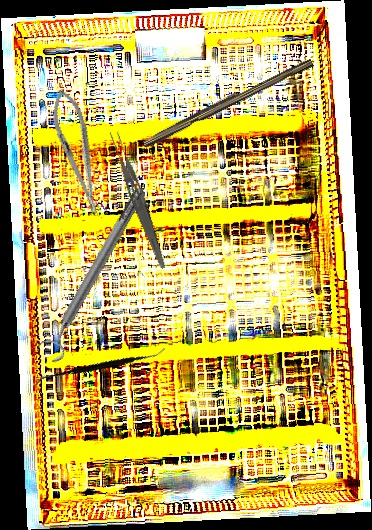Dressing Forceps: (105, 128, 173, 271)
Fixation Ring: (32, 182, 156, 366)
Needle Holder: (45, 85, 109, 218)
Scalpel Handle: (141, 53, 314, 151)
Spatula Surgical: (33, 301, 166, 434)
